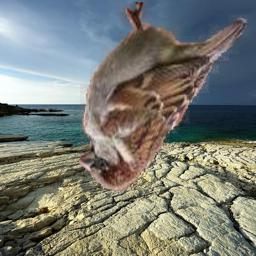Sparrow: (79, 2, 249, 191)
